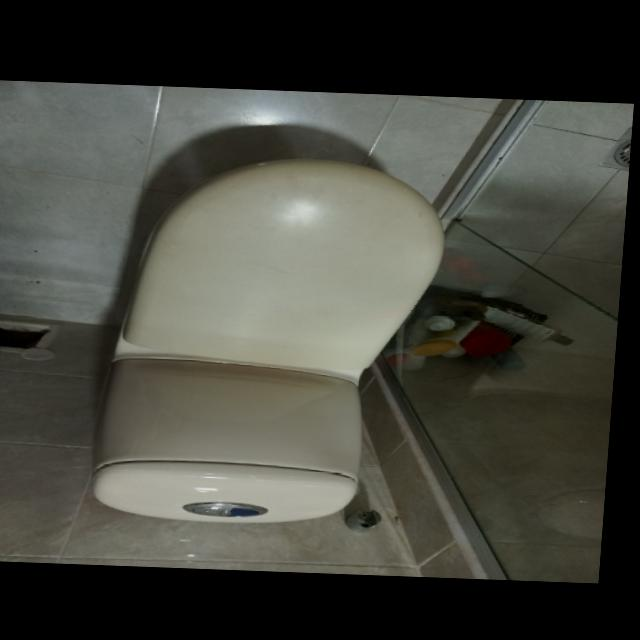toilet: (95, 151, 454, 527)
